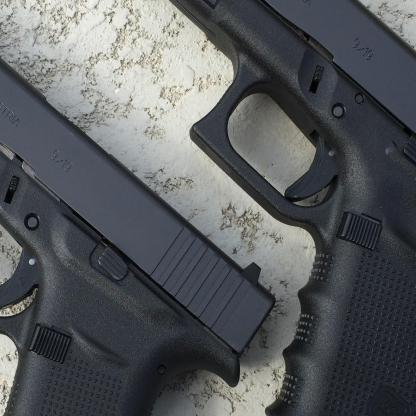gun: (118, 0, 416, 416), (0, 0, 273, 415)
